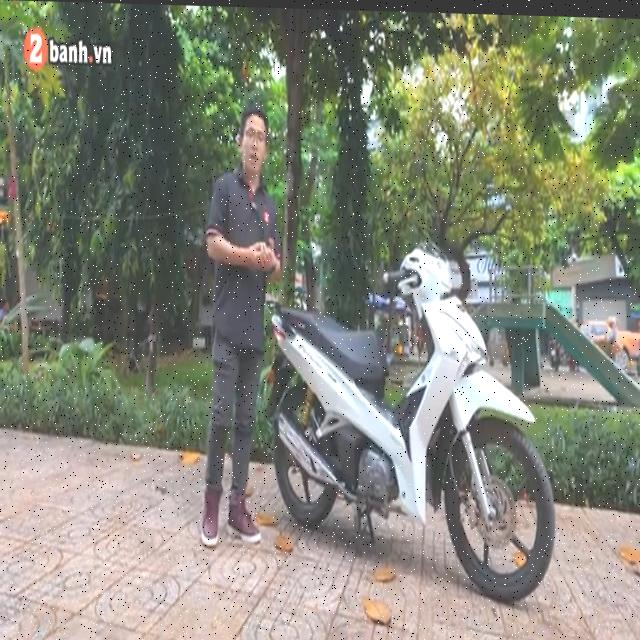motorcycle: (258, 227, 575, 610)
